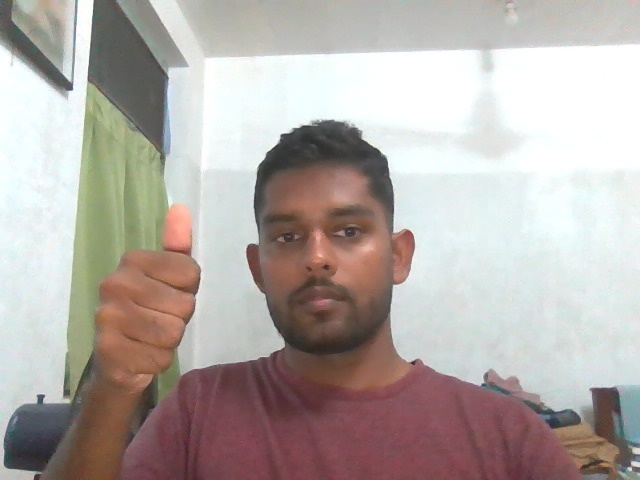good.: (51, 192, 214, 389)
